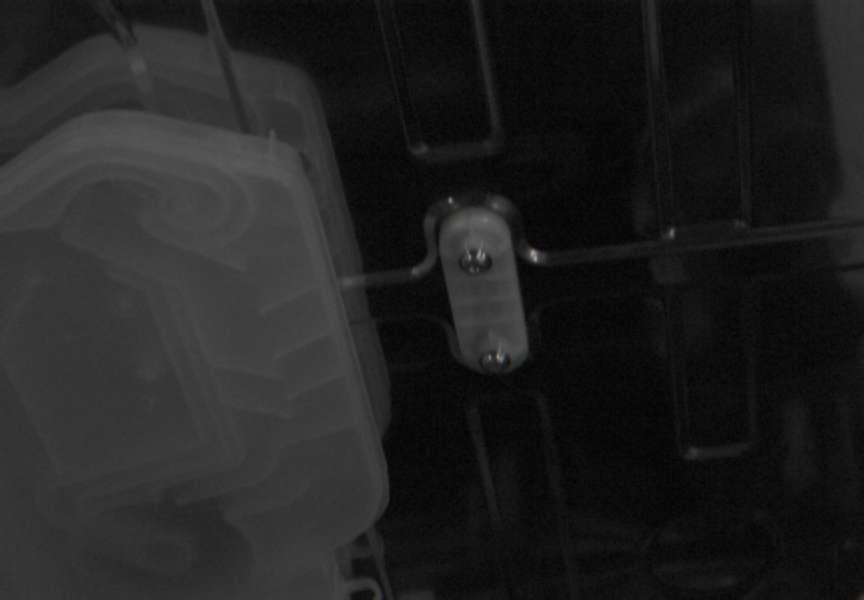screw: (459, 248, 492, 275), (479, 349, 511, 374)
